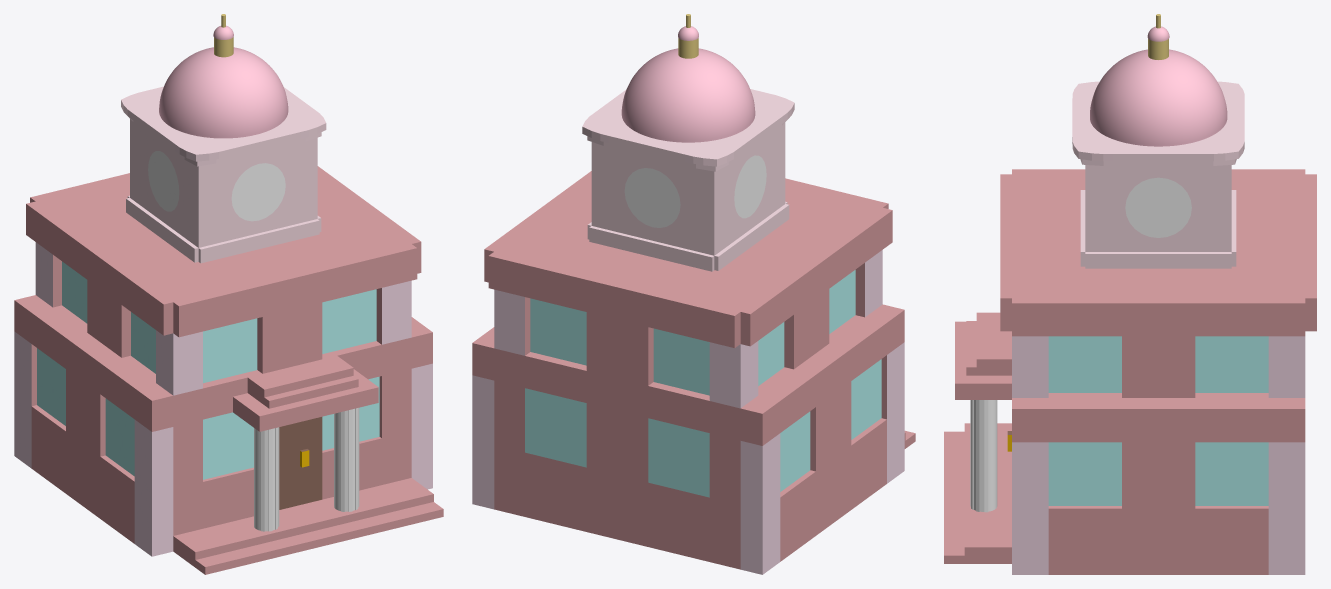
File: cityHallMesh.fbx
The picture shows the model from 3 angles, left to right: view 1: azimuth 30°, elevation 25°; view 2: azimuth 150°, elevation 25°; view 3: azimuth 270°, elevation 25°; orthographic projection. The views are drawn at different scales.
Parts seen in each view (by area): view 1: cityHallComb; view 2: cityHallComb; view 3: cityHallComb.
Part boxes in pixels (<box>): cityHallComb: <box>14,14,443,574</box>; cityHallComb: <box>472,14,915,574</box>; cityHallComb: <box>944,14,1316,574</box>.
Size of the model in its own units: 21.22 by 32.99 by 22.9.
